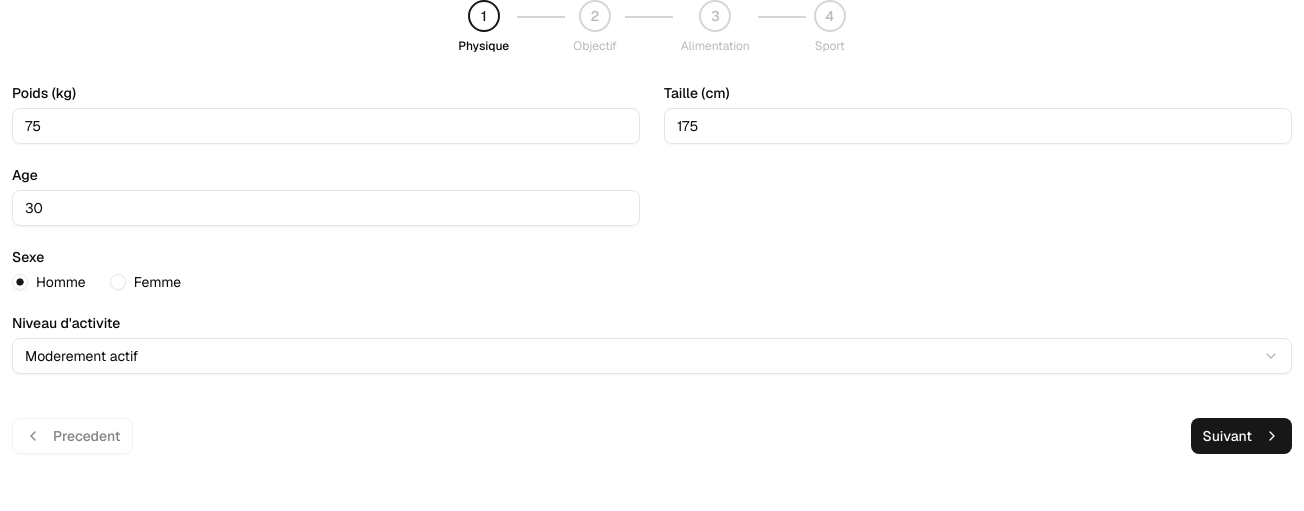
Scenario: OnboardingWizard › 'Precedent' button on step 2 goes back to step 1 with data preserved
The width and height of the screenshot is (1304, 511).
# Advance to step 2
Click the button "Suivant": (1241, 436) [1190,418,1292,454]
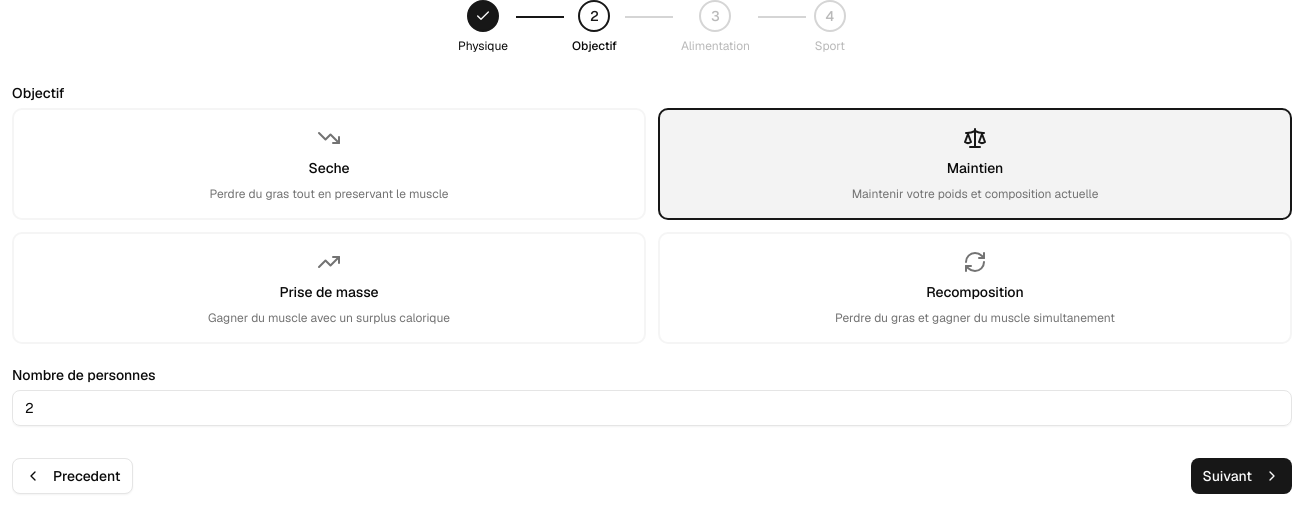
expect the text "Nombre de personnes" is shown: met, box [12,366,156,384]
expect the button "Precedent" is enabled: met
Click the button "Precedent": (73, 476) [12,458,133,494]
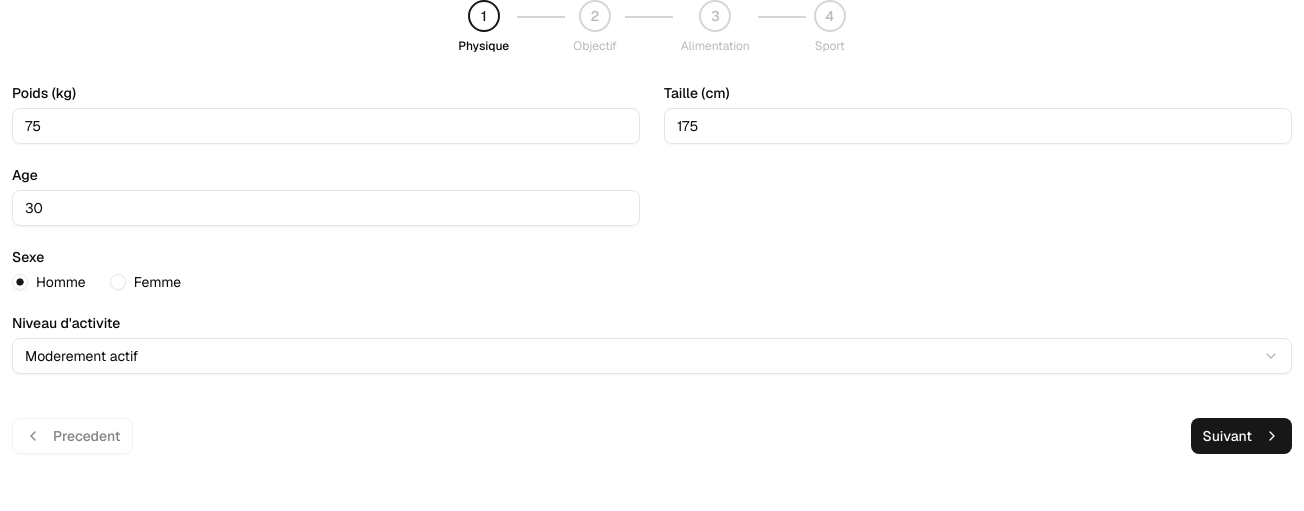
expect the text "Poids (kg)" is shown: met, box [12,84,76,102]
expect the number field labelled "Poids (kg)" holds "75": met, box [12,108,640,144]
